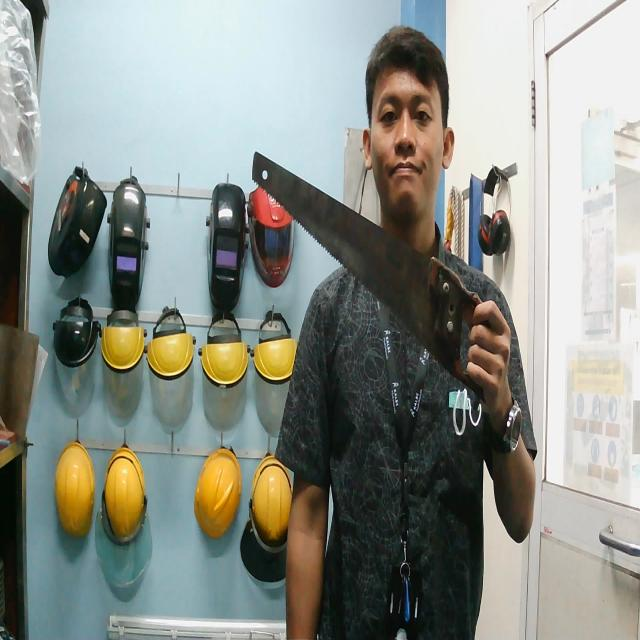gergaji_kayu: (244, 141, 518, 415)
